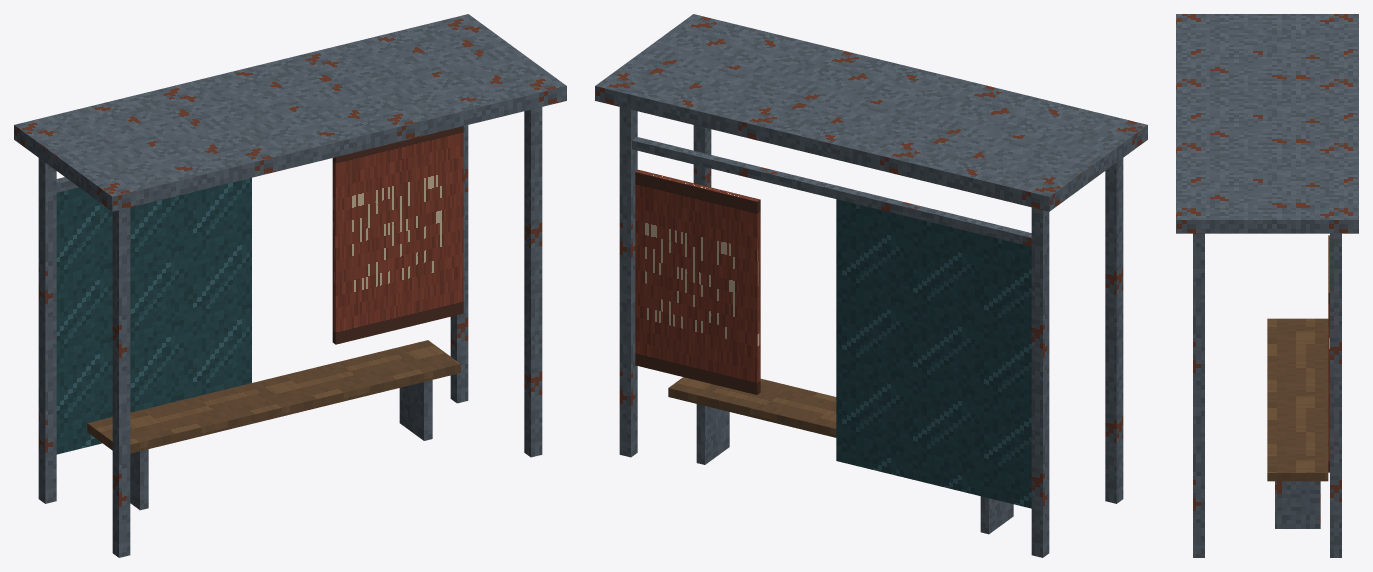
Rendered from bus_stop.gltf.
3 views of the same model, side by side, from view 1: azimuth 30°, elevation 25°; view 2: azimuth 150°, elevation 25°; view 3: azimuth 270°, elevation 25° (orthographic). The views are drawn at different scales.
Visible parts, largest first — view 1: bus_stop; view 2: bus_stop; view 3: bus_stop.
Boxes of the visible parts, left/top/right/bottom form: bus_stop: left=14, top=14, right=566, bottom=557; bus_stop: left=595, top=14, right=1147, bottom=557; bus_stop: left=1176, top=14, right=1358, bottom=557.
Bounding box in the file's own units: 3.2 × 2.5 × 1.2.
Materials: 4 (4 with a texture image).
